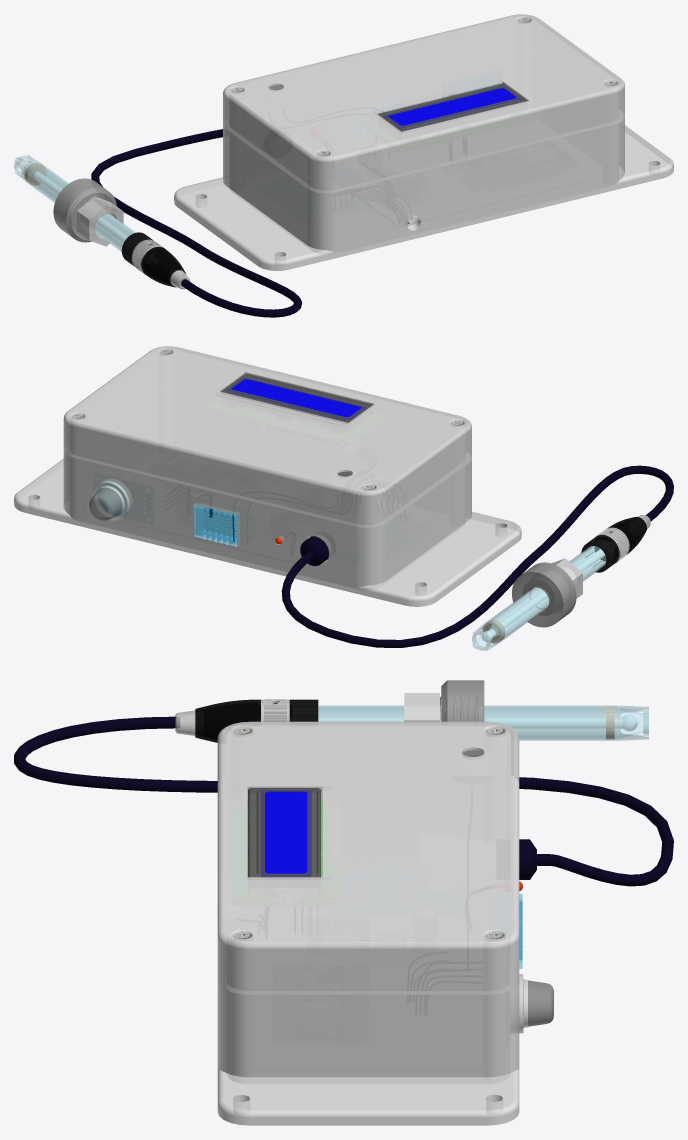
3 views of the same model, one above another, from view 1: azimuth 30°, elevation 25°; view 2: azimuth 150°, elevation 25°; view 3: azimuth 270°, elevation 25° (orthographic). The views are drawn at different scales.
Visible parts, largest first — view 1: top, bottom, PROBE, ph probe cabel, 1602 Serial LCD Module Display; view 2: top, bottom, PROBE, ph probe cabel, 1602 Serial LCD Module Display, dht, gas, Cube, Cylinder; view 3: top, bottom, PROBE, ph probe cabel, 1602 Serial LCD Module Display, gas, Cylinder.
Part boxes in pixels (<box>): top: <box>223,14,624,193</box>; bottom: <box>174,97,673,270</box>; PROBE: <box>14,155,190,289</box>; ph probe cabel: <box>91,129,302,317</box>; 1602 Serial LCD Module Display: <box>378,83,527,131</box>; top: <box>63,346,471,527</box>; bottom: <box>14,443,521,606</box>; PROBE: <box>472,515,650,650</box>; ph probe cabel: <box>281,465,673,647</box>; 1602 Serial LCD Module Display: <box>221,373,372,423</box>; dht: <box>192,505,236,547</box>; gas: <box>89,480,144,520</box>; Cube: <box>197,505,310,543</box>; Cylinder: <box>300,536,329,565</box>; top: <box>217,721,519,994</box>; bottom: <box>217,775,519,1125</box>; PROBE: <box>175,680,648,742</box>; ph probe cabel: <box>14,716,673,886</box>; 1602 Serial LCD Module Display: <box>247,788,322,877</box>; gas: <box>519,974,553,1033</box>; Cylinder: <box>519,839,536,879</box>.
Size of the model in its own units: 44.62 by 8.03 by 32.51.
